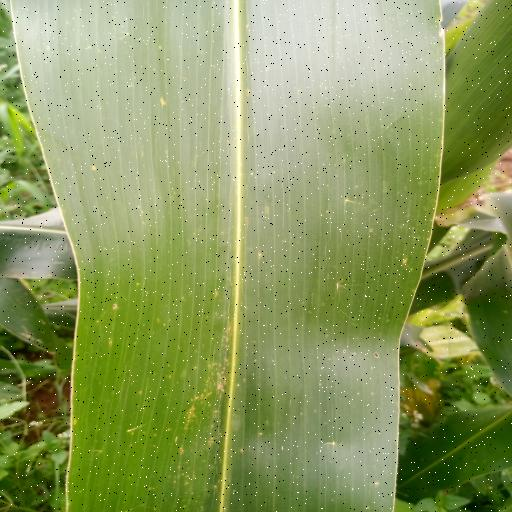Corn_Chlorotic_Leaf_Spot: (6, 0, 454, 512)
